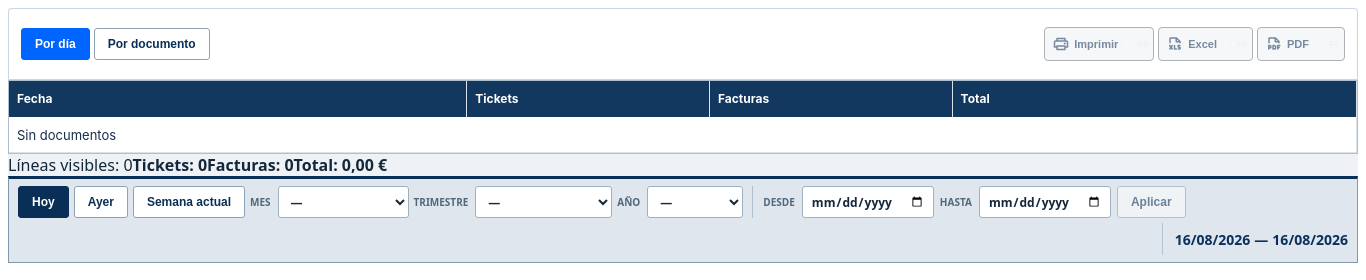
Test: SalesReportScreen › moves DOCUMENT TODAY to the server date when the initial page crosses midnight
This screenshot has width=1366, height=280.
What coordinates should you click on to do the following:
click the button "Por documento"
I would click on:
 (152, 44)
Its box is top-left (94, 28), bottom-right (210, 60).
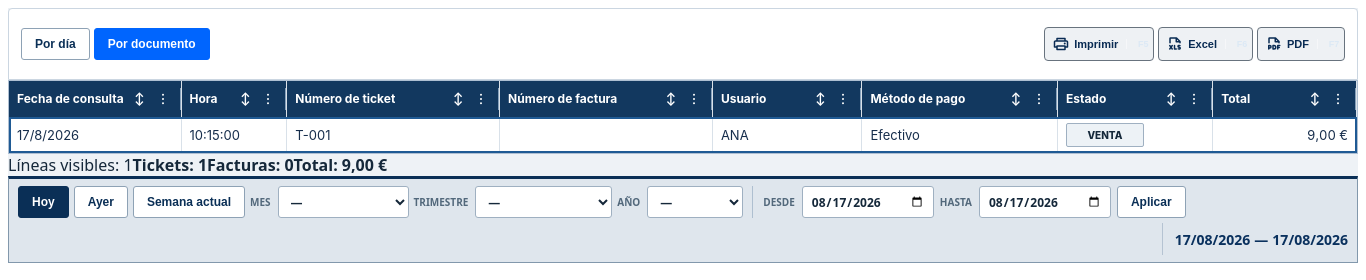
Expected: the text "9,00 €" is shown, top-left (1213, 117), bottom-right (1357, 153)
